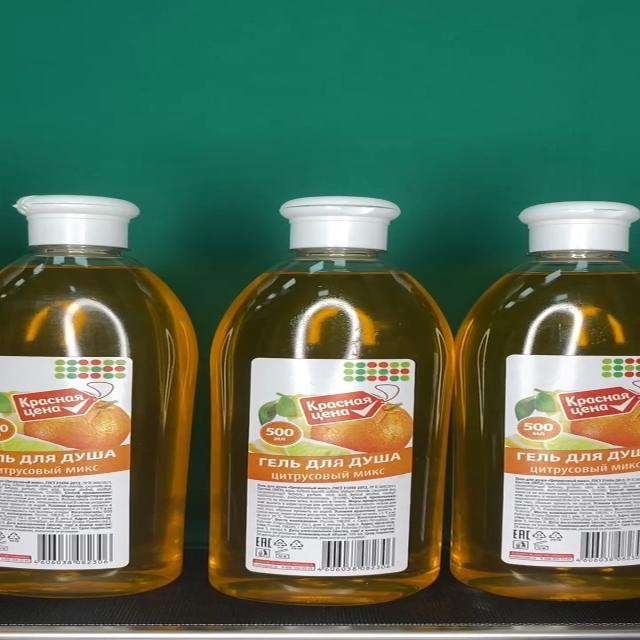Bottle: (209, 198, 455, 606), (0, 194, 200, 599), (452, 200, 640, 601)
Cap: (15, 195, 140, 248), (279, 197, 401, 250), (518, 201, 640, 253)
